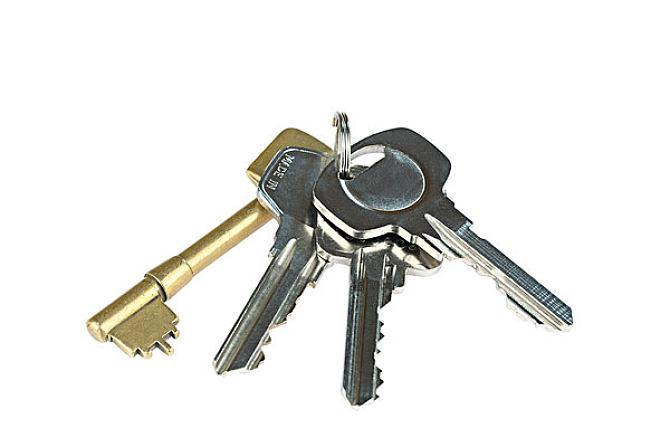key: (300, 110, 603, 347), (64, 111, 343, 366), (310, 123, 451, 415), (205, 139, 355, 397)
